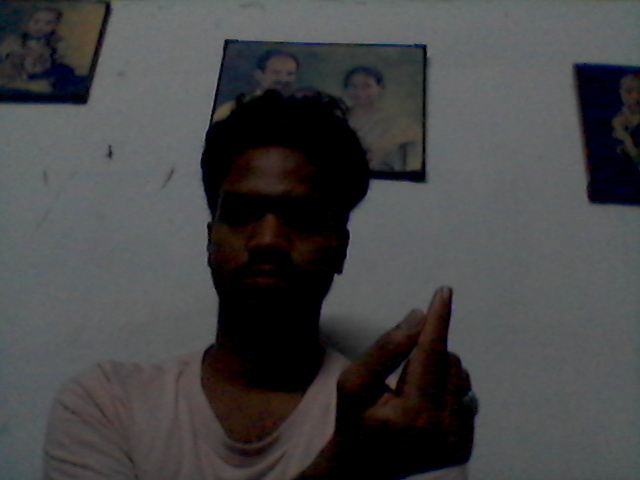Excuse Me: (330, 278, 500, 480)
